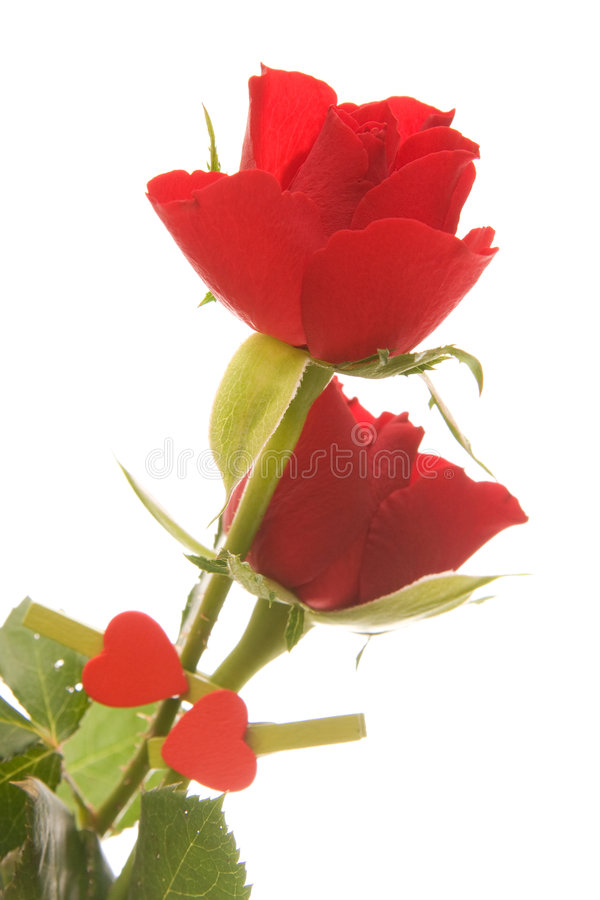RedRose: (148, 14, 532, 434), (181, 333, 534, 677)
